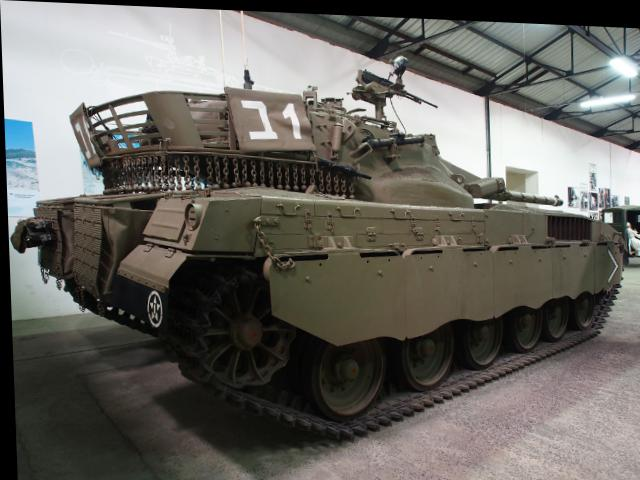tank: (69, 68, 640, 426)
